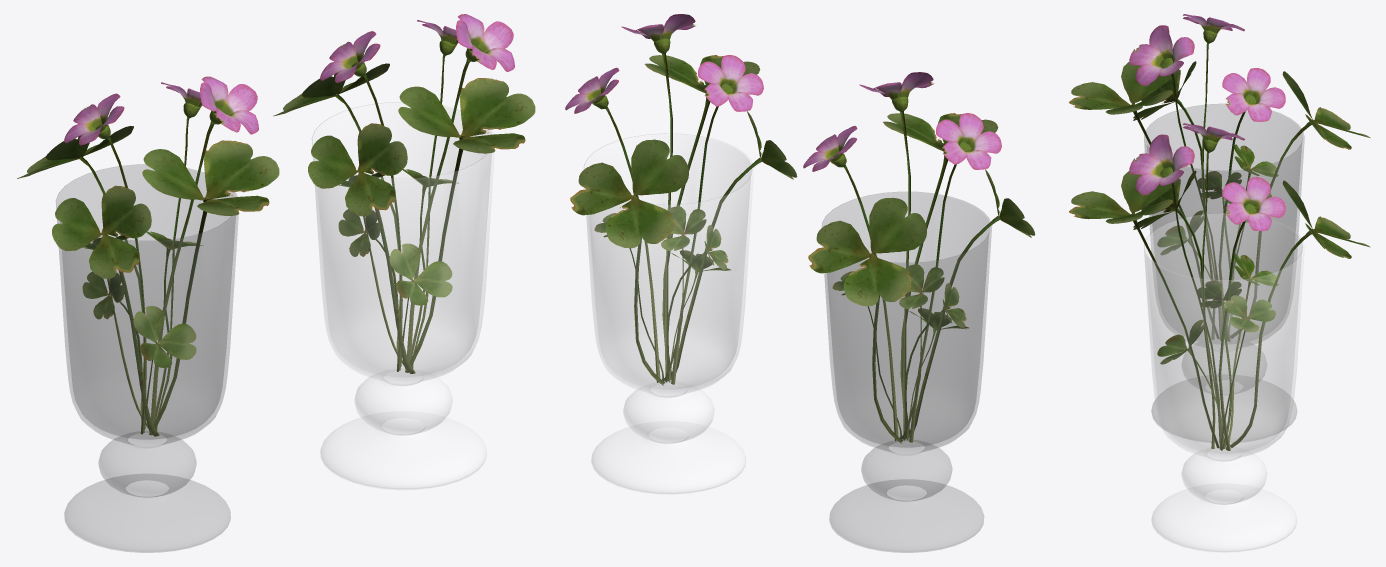
File: vase.glb
The picture shows the model from 3 angles, left to right: view 1: azimuth 30°, elevation 25°; view 2: azimuth 150°, elevation 25°; view 3: azimuth 270°, elevation 25°; orthographic projection. The views are drawn at different scales.
Visible parts, largest first — view 1: Flowers1, GlassAlpha, GlassTransmission; view 2: Flowers1, GlassAlpha, GlassTransmission; view 3: GlassTransmission, Flowers1, GlassAlpha.
Boxes of the visible parts, bbox=[...] form: Flowers1: bbox=[17, 14, 535, 436]; GlassAlpha: bbox=[56, 164, 238, 552]; GlassTransmission: bbox=[312, 102, 494, 490]; Flowers1: bbox=[565, 14, 1035, 443]; GlassAlpha: bbox=[822, 192, 991, 552]; GlassTransmission: bbox=[584, 133, 753, 494]; GlassTransmission: bbox=[1144, 213, 1304, 552]; Flowers1: bbox=[1069, 14, 1370, 450]; GlassAlpha: bbox=[1144, 104, 1304, 442].
Size of the model in its own units: 0.2173 by 0.2032 by 0.1425.
Materials: 3 (1 with a texture image).
